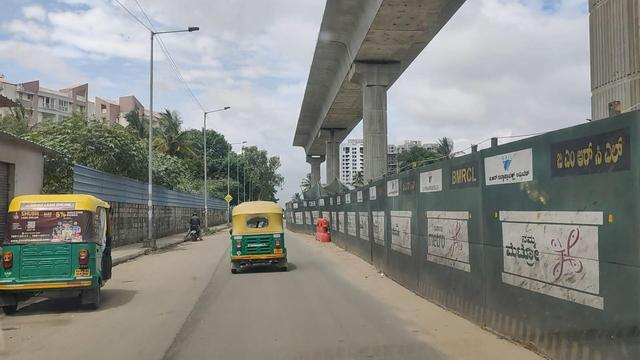LMV: (0, 178, 120, 318), (223, 198, 290, 280)
